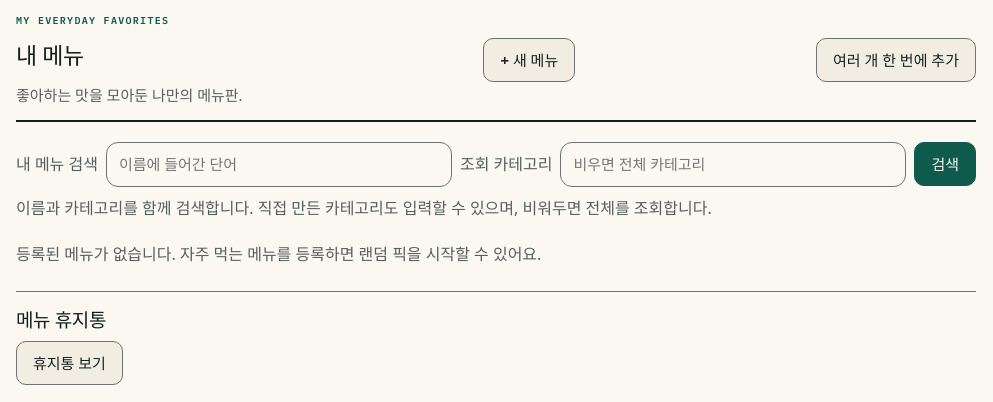
Scenario: 메뉴 이름 검색 › 빈 카테고리 결과에서 조건 변경을 안내한다
Type "없는 분류" into the field labelled "조회 카테고리". click: point(733, 164)
box: [560,142,906,187]
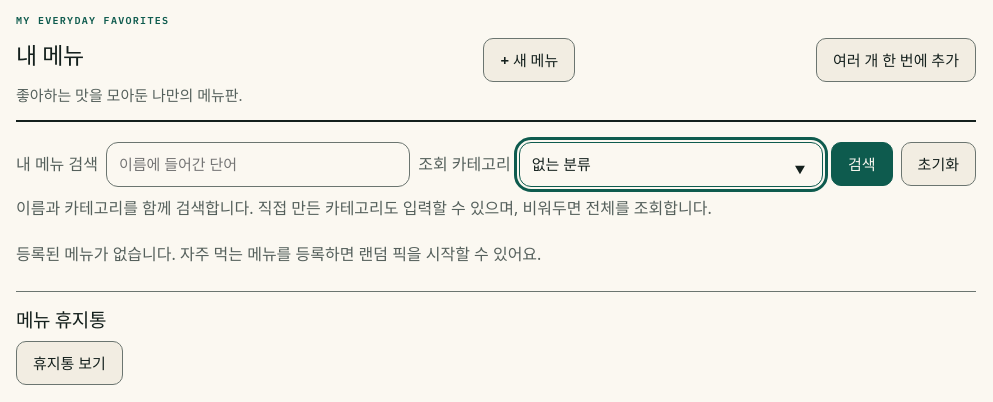
Click the button "검색". click: point(862, 164)
box: [831,142,893,186]
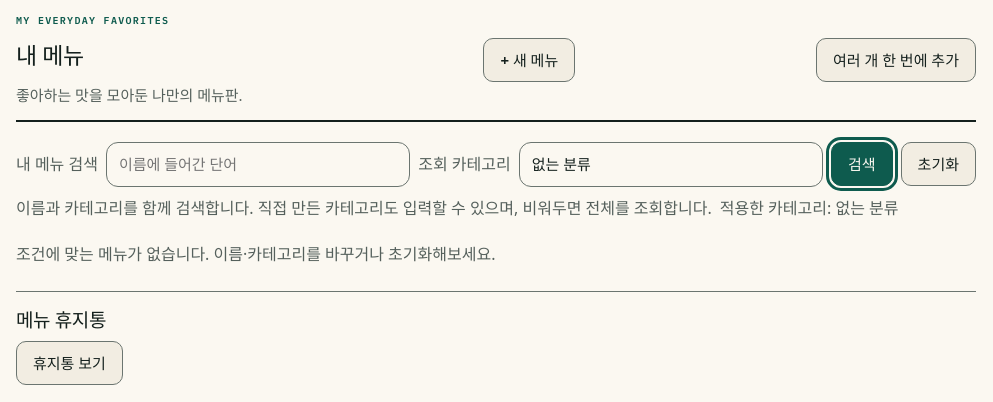
Expected: the text "조건에 맞는 메뉴가 없습니다. 이름·카테고리를 바꾸거나 초기화해보세요." is shown, [16,243,495,265]
